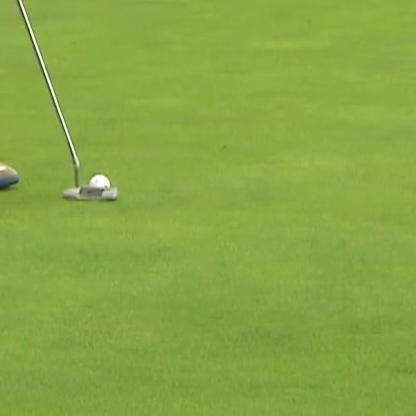golfball: (88, 172, 112, 191)
